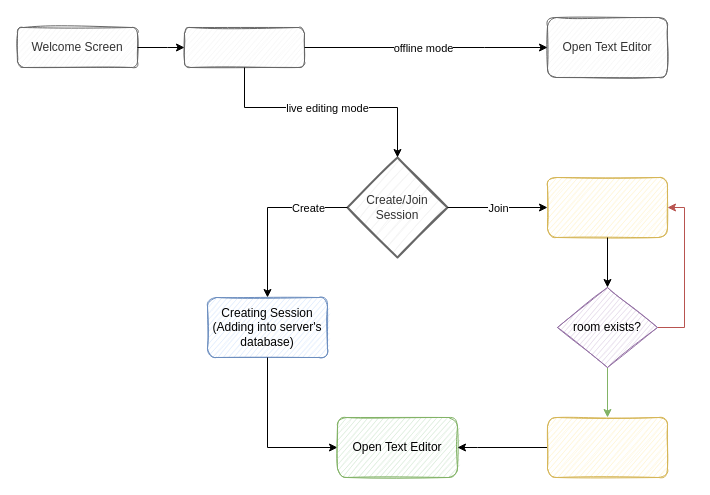
Some shapes in this 710 by 495 pixel diagram are drawn without their labels. The shapes that lost their labels are listed below. From the top down, each one's box as (x1, y1, x2, y2) in pixels, then its label:
(184, 26, 304, 68): Main Menu
(546, 176, 668, 238): User enters room key
(546, 416, 668, 478): user sends request for editing
